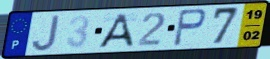2: (137, 11, 167, 47)
3: (65, 14, 93, 50)
7: (211, 6, 241, 47)
A: (96, 12, 135, 49)
J: (30, 14, 61, 53)
P: (171, 8, 208, 48)
